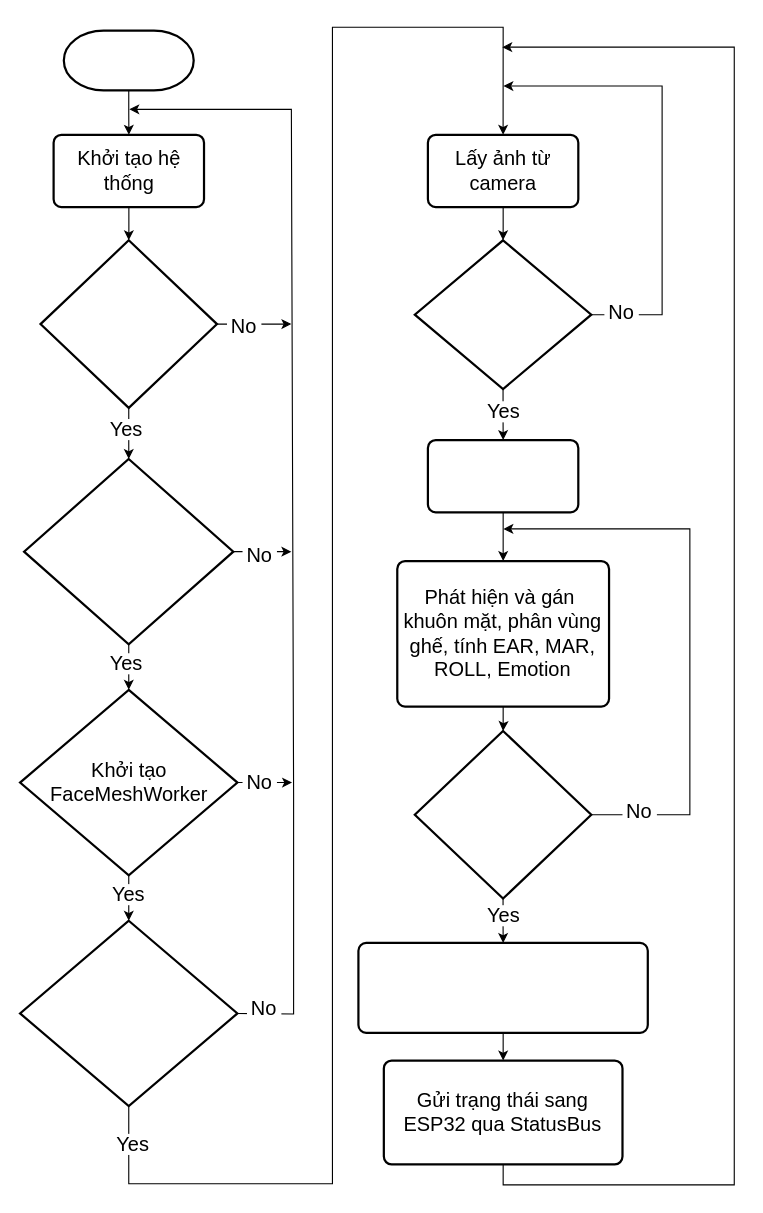
Some shapes in this 763 by 1213 pixel diagram are drawn without their labels. Here are the shapes that lost their labels. From the top down, the centre of each, then its label:
point (128, 60): Bắt đầu
point (128, 323): Khởi tạo model AI, MediaPipe
point (502, 314): KT Ảnh hợp lệ
point (502, 475): Gửi ảnh vào Worker
point (128, 551): Khởi tạo SnapshotFetcher
point (502, 814): KT Có người trong ghế
point (502, 987): Cập nhật trạng thái ghế, tính Health Score và phân loại trạng thái
point (128, 1013): Khởi tạo StatusBus
